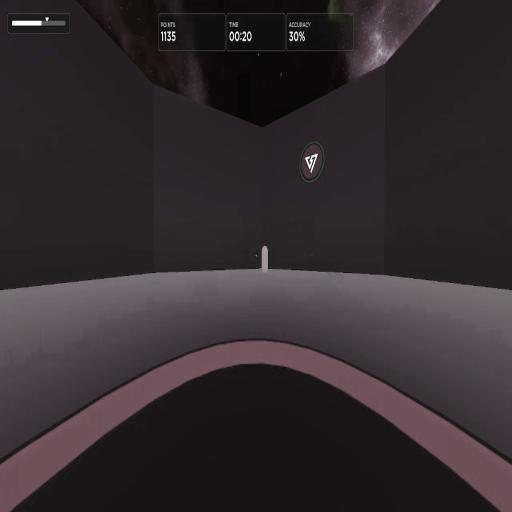Crosshair: (255, 254, 257, 257)
Target: (262, 245, 268, 274)
